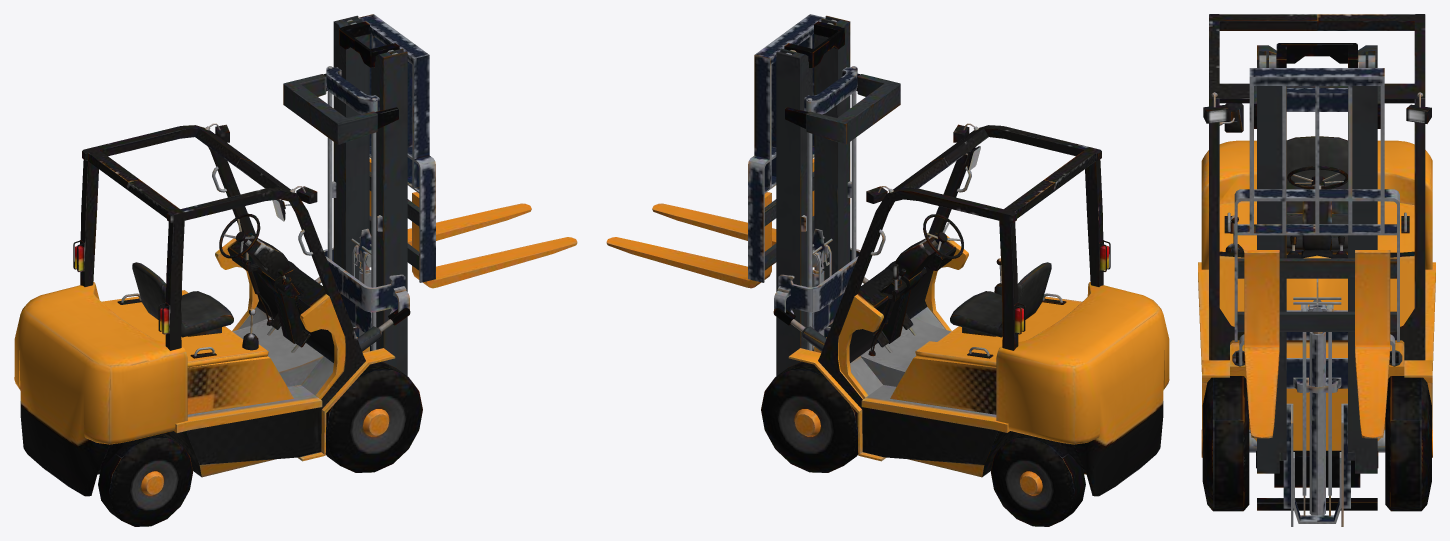
Rendered from carretilla.glb.
The picture shows the model from 3 angles, left to right: view 1: azimuth 30°, elevation 25°; view 2: azimuth 150°, elevation 25°; view 3: azimuth 270°, elevation 25°; orthographic projection. The views are drawn at different scales.
Visible parts, largest first — view 1: carretilla; view 2: carretilla; view 3: carretilla.
Part boxes in pixels (x1,y1,x2,y2): carretilla: (14,14,577,526); carretilla: (606,14,1169,526); carretilla: (1198,14,1435,526).
Size of the model in its own units: 3.86 by 2.89 by 1.31.
1 material, 1 textured.
